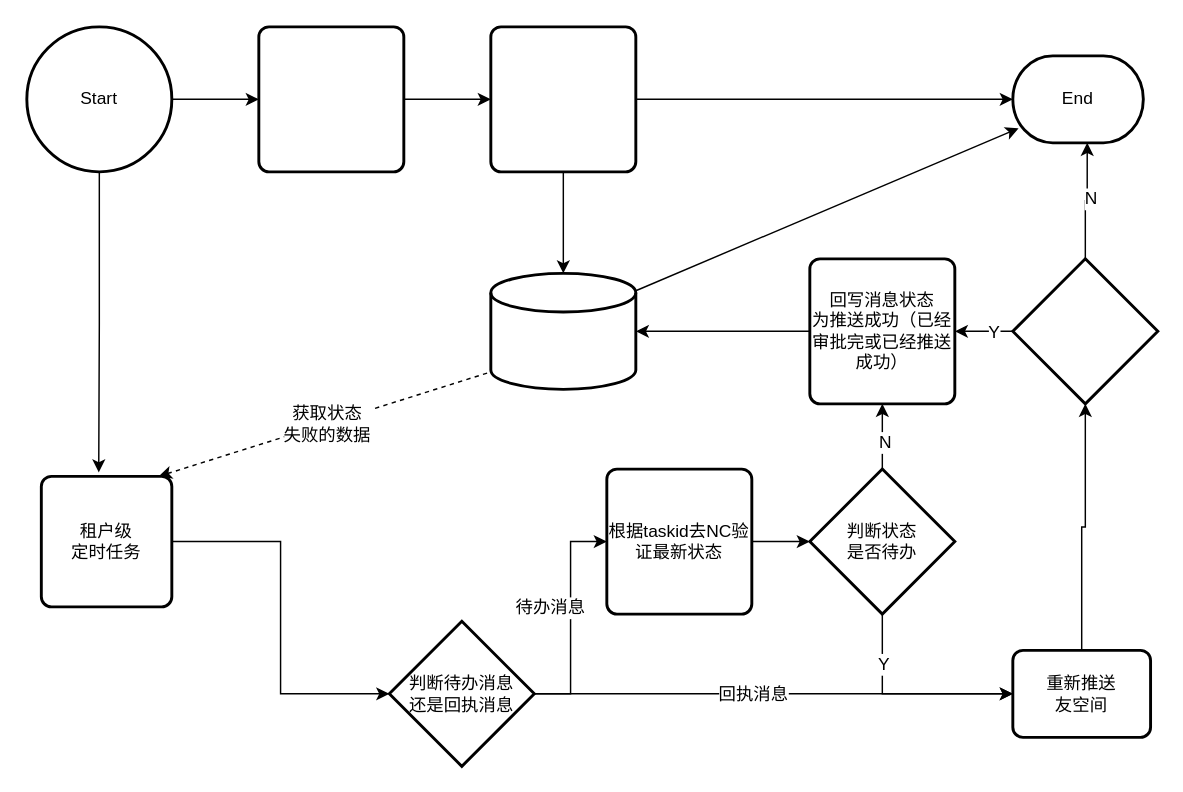
The diagram is 1183 pixels wide and 792 high, and some of its shapes have lost their labels. Here are the shapes that lost their labels. From the top down, the centre of each, then its label:
At (331,99): "NC从友企联 推送过来的消息 待办、回执".
At (563,99): "推送给友空间的 消息请求 和返回json".
At (563,330): "消息状态表（推送成功状态）".
At (1085,331): "推送是否成功".
